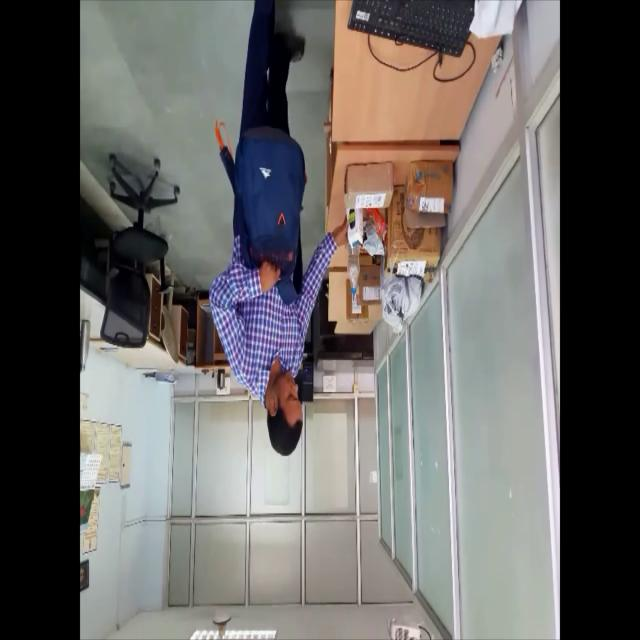shoplifting: (206, 0, 330, 478)
